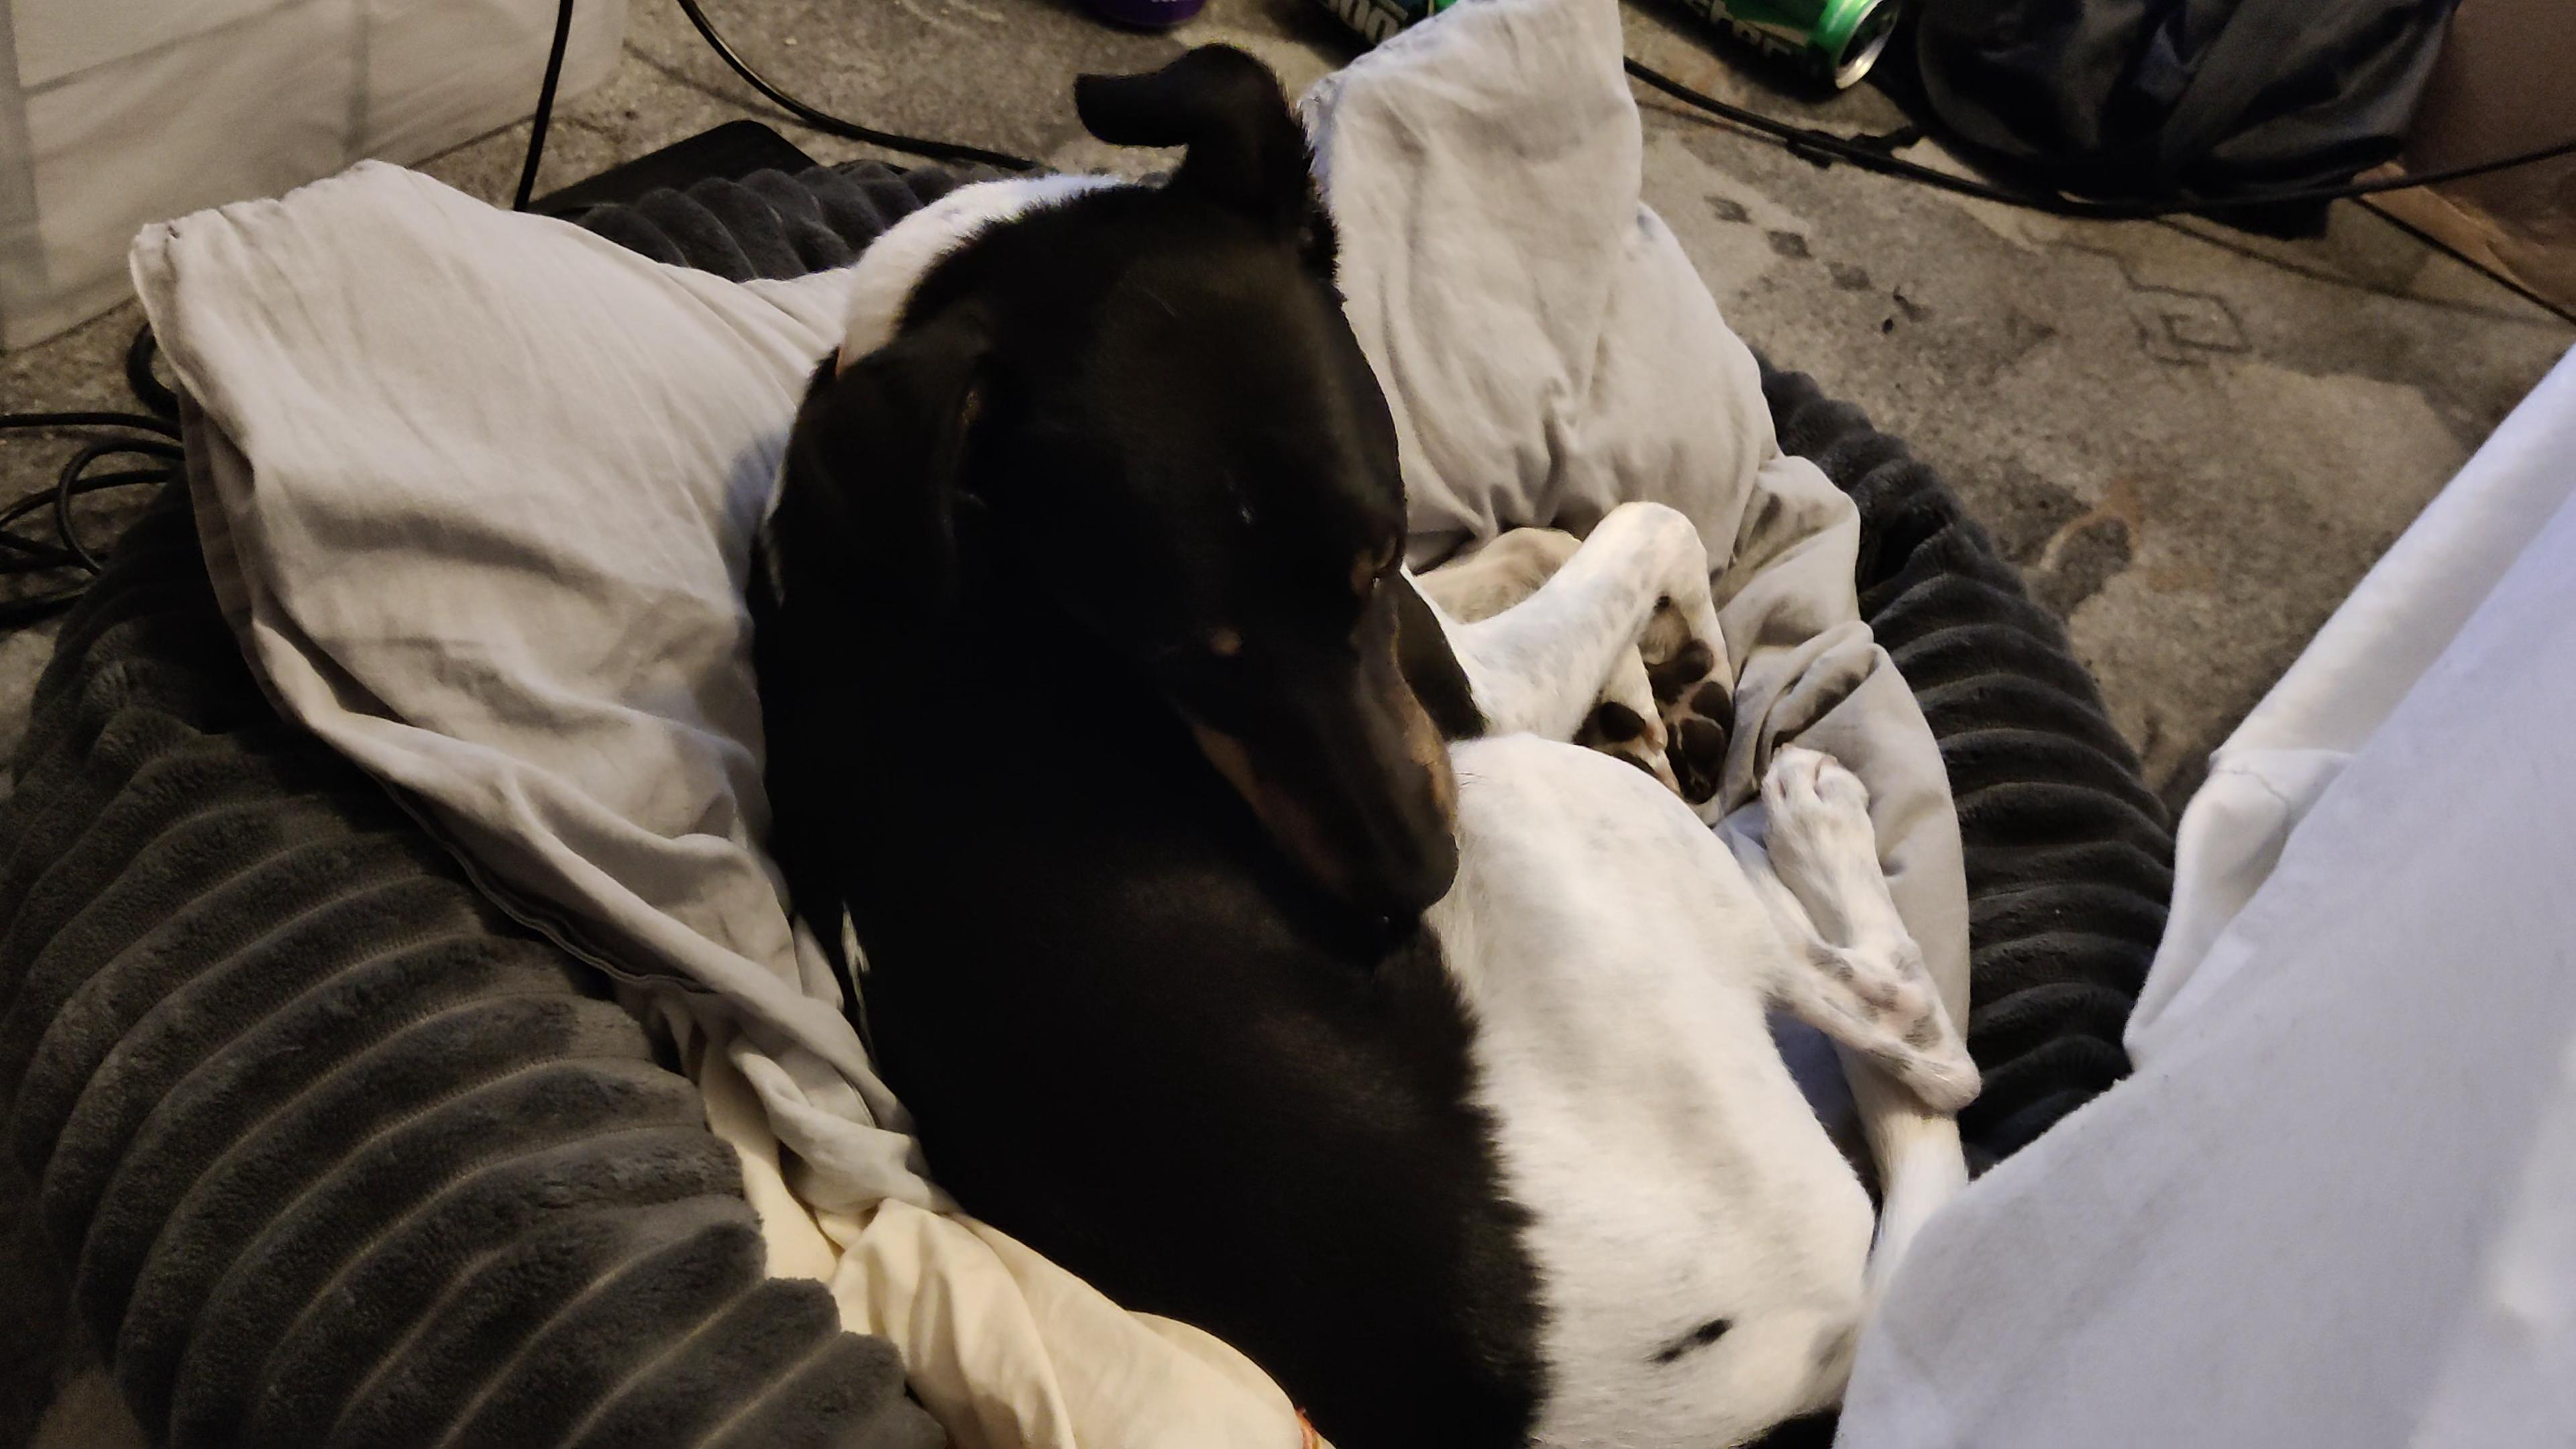Dog: (725, 34, 1997, 1449)
